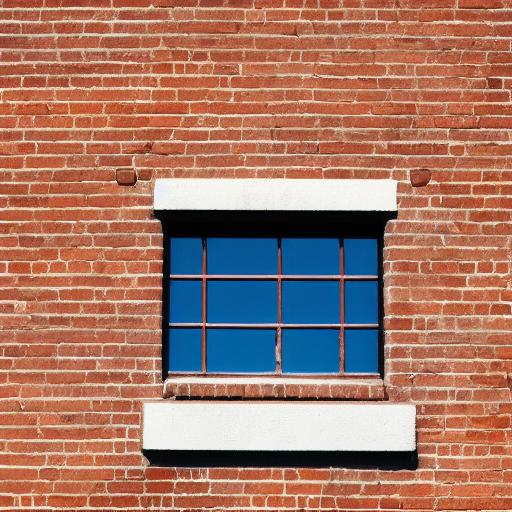Window: (145, 176, 420, 456)
